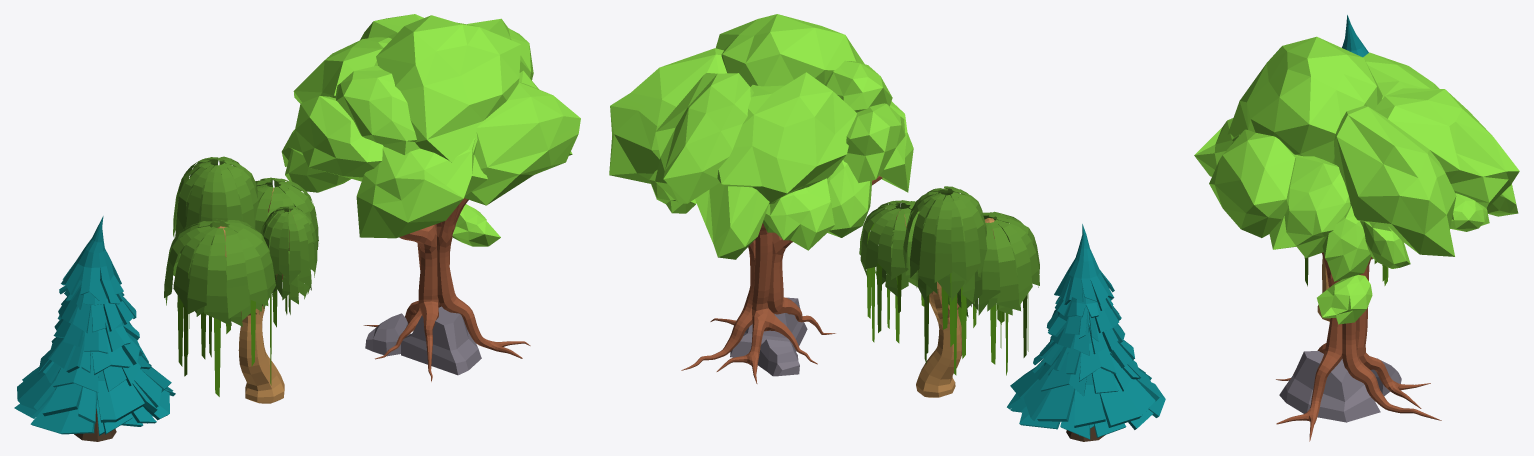
The model's file is lp_objects_trees.glb.
The picture shows the model from 3 angles, left to right: view 1: azimuth 30°, elevation 25°; view 2: azimuth 150°, elevation 25°; view 3: azimuth 270°, elevation 25°; orthographic projection. The views are drawn at different scales.
Parts seen in each view (by area): view 1: object 2, Plane.008_2, object 1; view 2: object 2, Plane.008_2, object 1; view 3: object 2, object 1, Plane.008_2.
Part boxes in pixels (bbox=[...]): object 2: bbox=[281, 14, 580, 381]; Plane.008_2: bbox=[164, 156, 318, 403]; object 1: bbox=[14, 216, 175, 441]; object 2: bbox=[609, 14, 913, 383]; Plane.008_2: bbox=[859, 186, 1039, 397]; object 1: bbox=[1007, 224, 1165, 441]; object 2: bbox=[1194, 36, 1519, 441]; object 1: bbox=[1342, 15, 1368, 57]; Plane.008_2: bbox=[1304, 256, 1388, 321].
Bounding box in the file's own units: 3.27 × 2.02 × 1.69.
